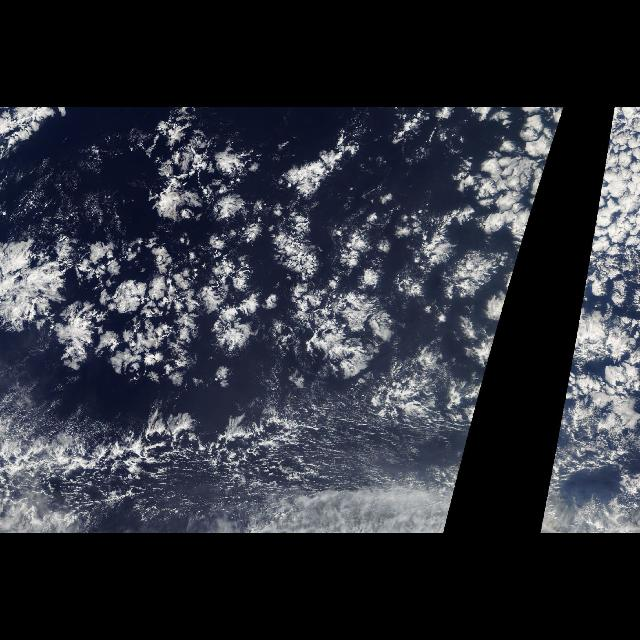Flower: (69, 135, 534, 417)
